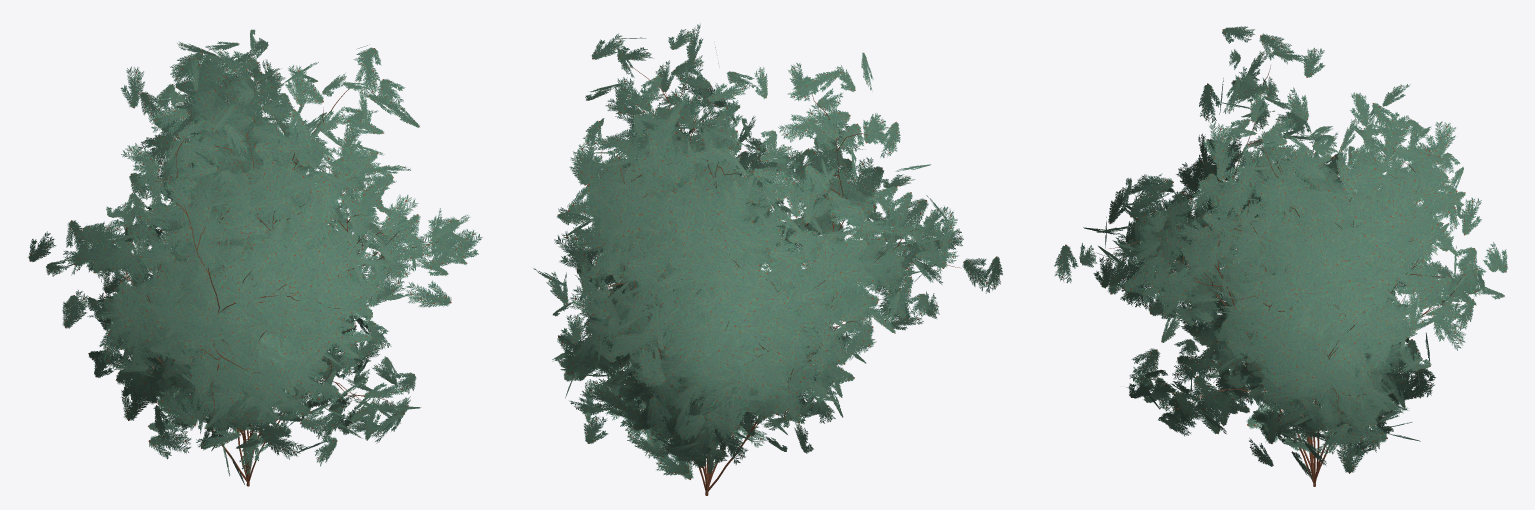
The model's file is JU2_Juniper_Upright_2.6m.glb.
The picture shows the model from 3 angles, left to right: view 1: azimuth 30°, elevation 25°; view 2: azimuth 150°, elevation 25°; view 3: azimuth 270°, elevation 25°; orthographic projection. The views are drawn at different scales.
Parts seen in each view (by area): view 1: JU2_leaves, JU2_wood; view 2: JU2_leaves, JU2_wood; view 3: JU2_leaves, JU2_wood.
Part boxes in pixels (x1,y1,x2,y2): JU2_leaves: (27, 29, 482, 484); JU2_wood: (119, 75, 438, 486); JU2_leaves: (533, 23, 1002, 479); JU2_wood: (593, 66, 961, 495); JU2_leaves: (1054, 26, 1507, 480); JU2_wood: (1109, 65, 1461, 486).
Bounding box in the file's own units: 2.21 × 2.6 × 2.65.
2 materials, 2 textured.
